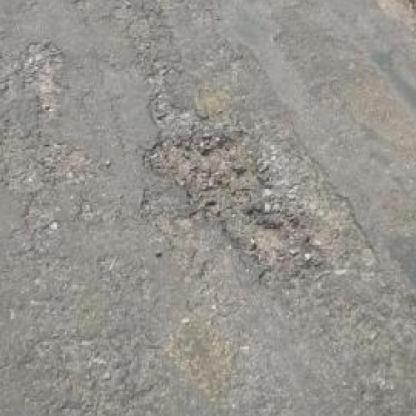pothole: (140, 129, 319, 282), (17, 40, 67, 111)
